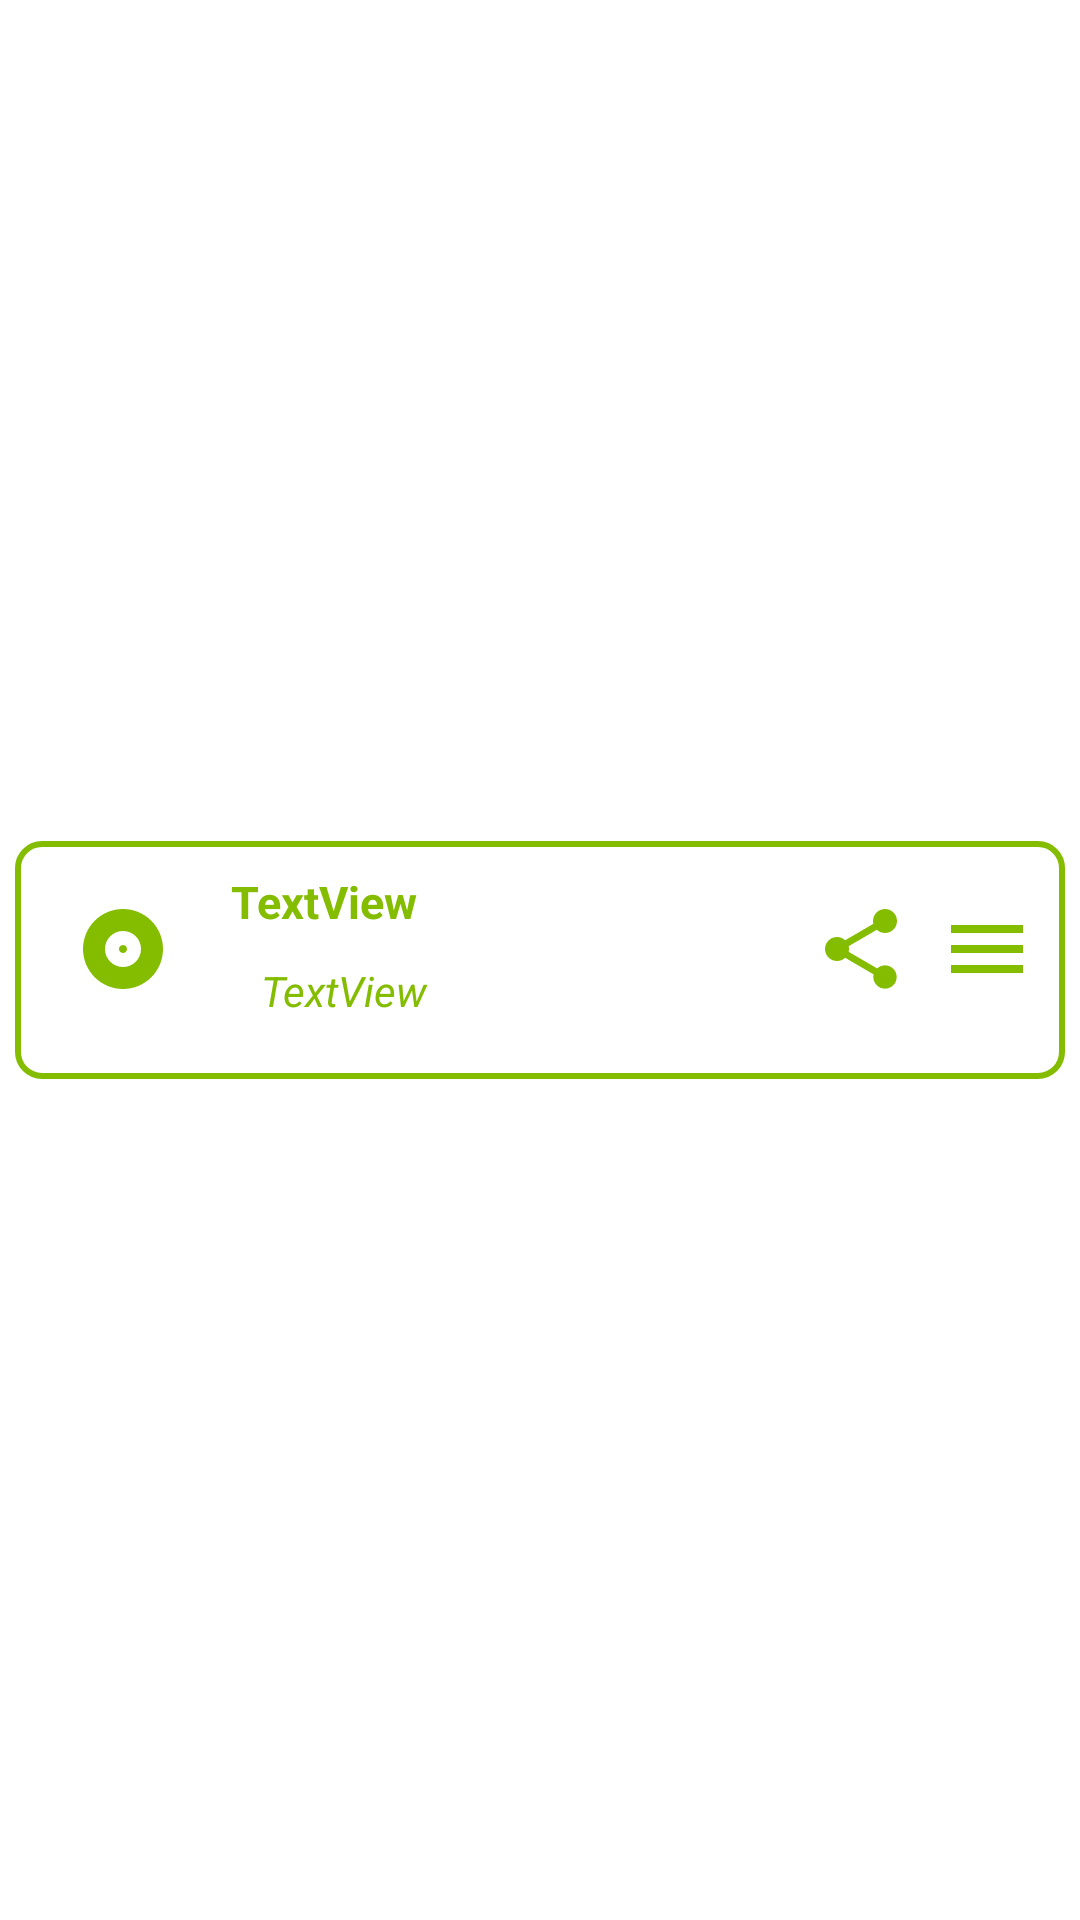

Screen size 1080x1920. Icon name, then its center in pixels as (x,y):
album: (123,949)
menu: (987,949)
share: (861,949)
